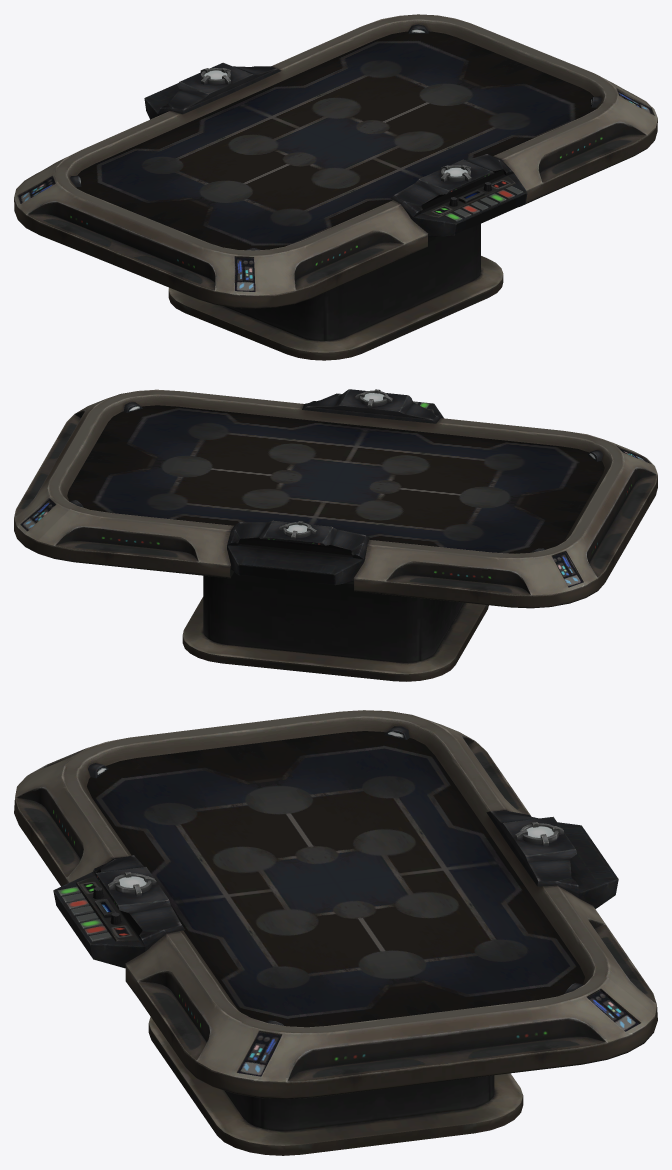
The model's file is env_packopening_pre.glb.
3 views of the same model, one above another, from view 1: azimuth 30°, elevation 25°; view 2: azimuth 150°, elevation 25°; view 3: azimuth 270°, elevation 25° (orthographic). The views are drawn at different scales.
Visible parts, largest first — view 1: holotable_base_low_mesh, holotable_surface_low_mesh; view 2: holotable_base_low_mesh, holotable_surface_low_mesh; view 3: holotable_base_low_mesh, holotable_surface_low_mesh.
Boxes of the visible parts, bbox=[...] form: holotable_base_low_mesh: bbox=[14, 14, 657, 360]; holotable_surface_low_mesh: bbox=[76, 31, 595, 250]; holotable_base_low_mesh: bbox=[14, 389, 657, 681]; holotable_surface_low_mesh: bbox=[67, 405, 604, 553]; holotable_base_low_mesh: bbox=[14, 710, 657, 1155]; holotable_surface_low_mesh: bbox=[87, 731, 584, 1027].
Bounding box in the file's own units: 9.95 × 2.75 × 7.48.
2 materials, 2 textured.
